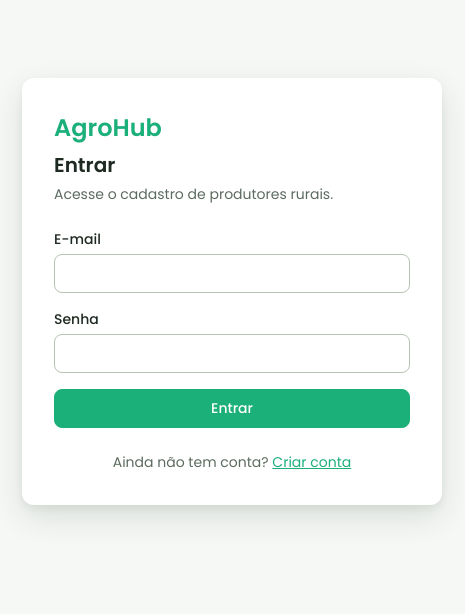
Test case: SignIn › reports invalid credentials without saying which half was wrong
Type "demo@agrohub.com.br" into the field labelled "E-mail" at (232, 273), box [54,254,410,292]
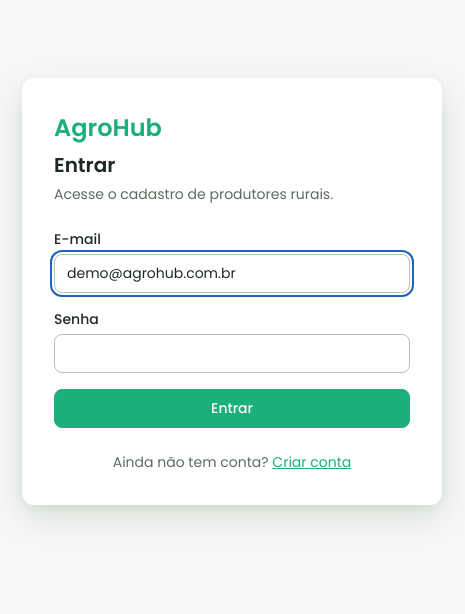
Type "errada1" into the password field labelled "Senha" at (232, 353), box [54,334,410,372]
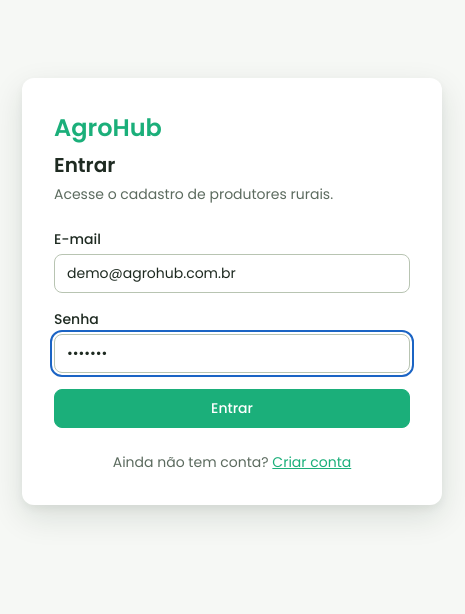
Click the button "Entrar" at (232, 408), box [54,388,410,428]
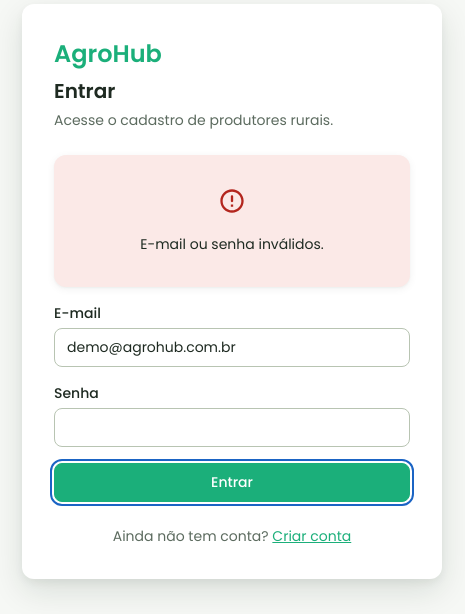
Now the message reads "E-mail ou senha inválidos.", box [140,234,324,254]
